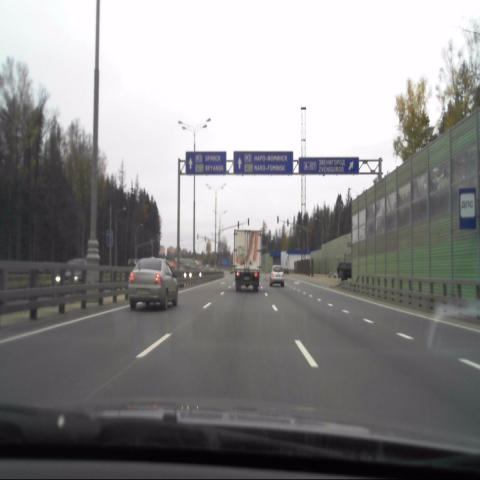7_12: (459, 188, 477, 230)
